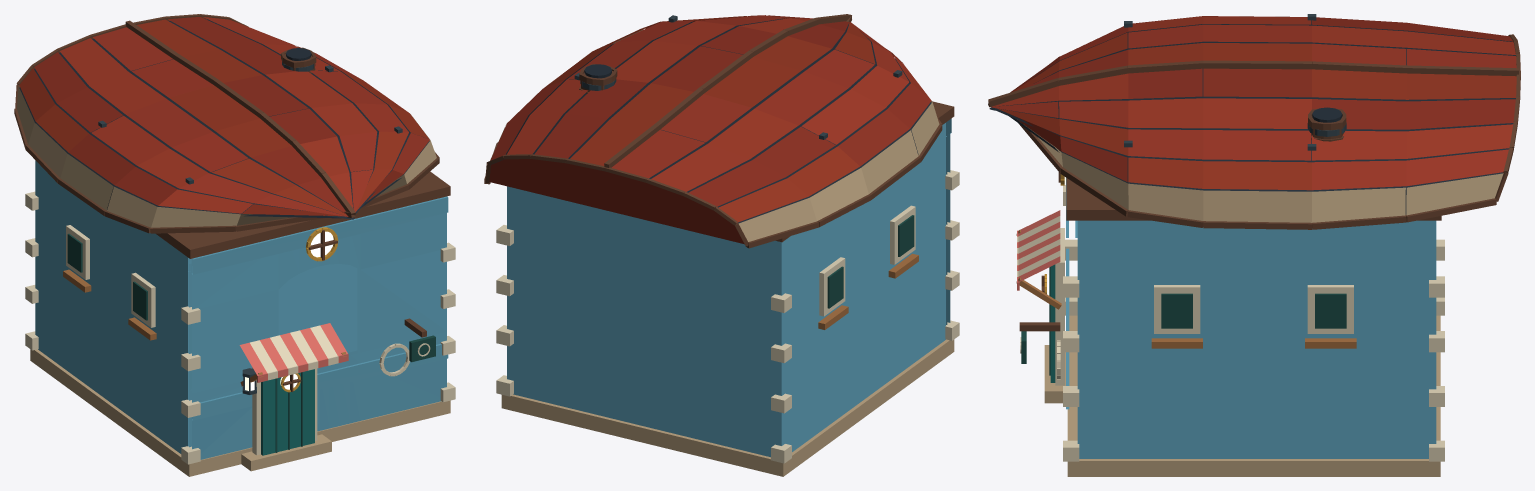
File: net-loft-large-sky.glb
The picture shows the model from 3 angles, left to right: view 1: azimuth 30°, elevation 25°; view 2: azimuth 150°, elevation 25°; view 3: azimuth 270°, elevation 25°; orthographic projection. The views are drawn at different scales.
Parts seen in each view (by area): view 1: net-loft-large-sky; view 2: net-loft-large-sky; view 3: net-loft-large-sky.
Part boxes in pixels (box(x1,y1,x2,y2)): net-loft-large-sky: box(14, 14, 455, 476); net-loft-large-sky: box(484, 14, 959, 476); net-loft-large-sky: box(988, 14, 1520, 476).
Bounding box in the file's own units: 5.82 × 5.1 × 7.24.
